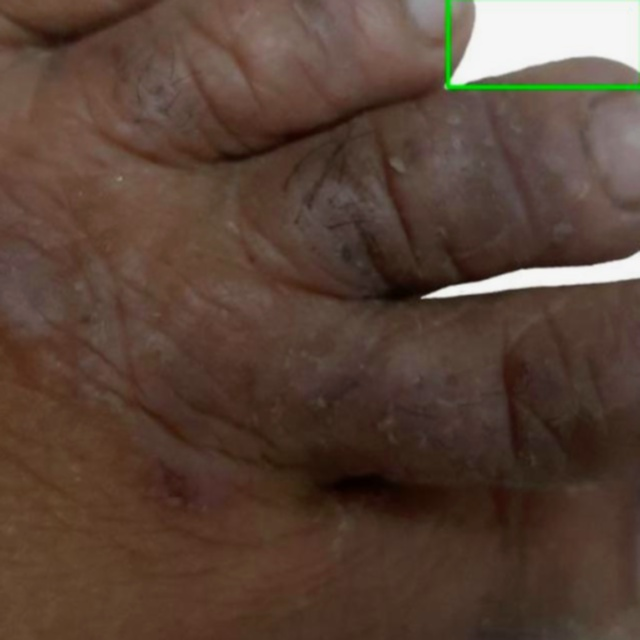Eczema: (448, 0, 639, 86)
